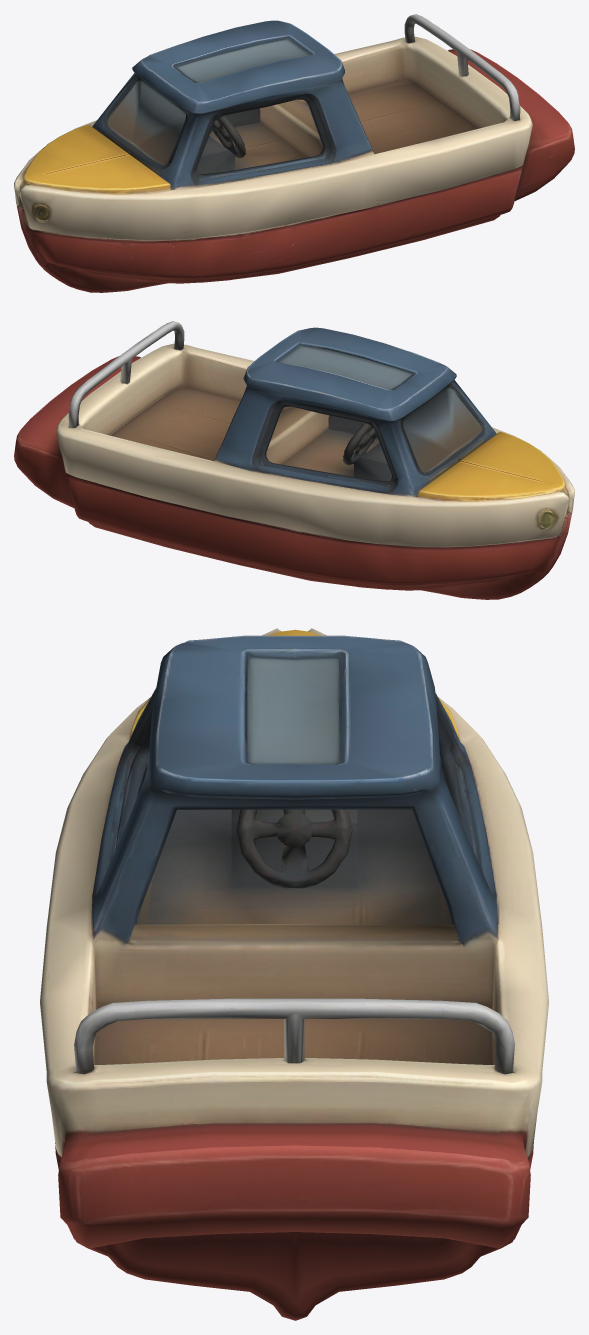
Rendered from boat.glb.
The picture shows the model from 3 angles, top to bottom: view 1: azimuth 30°, elevation 25°; view 2: azimuth 150°, elevation 25°; view 3: azimuth 270°, elevation 25°; orthographic projection. The views are drawn at different scales.
Parts seen in each view (by area): view 1: Crimson Harbor Cabin Cruiser; view 2: Crimson Harbor Cabin Cruiser; view 3: Crimson Harbor Cabin Cruiser.
Part boxes in pixels (left/top/right/bottom): Crimson Harbor Cabin Cruiser: left=14, top=14, right=574, bottom=292; Crimson Harbor Cabin Cruiser: left=14, top=321, right=574, bottom=599; Crimson Harbor Cabin Cruiser: left=40, top=628, right=548, bottom=1320.
Bounding box in the file's own units: 0.998 × 0.3965 × 0.4355.
Materials: 1 (1 with a texture image).
